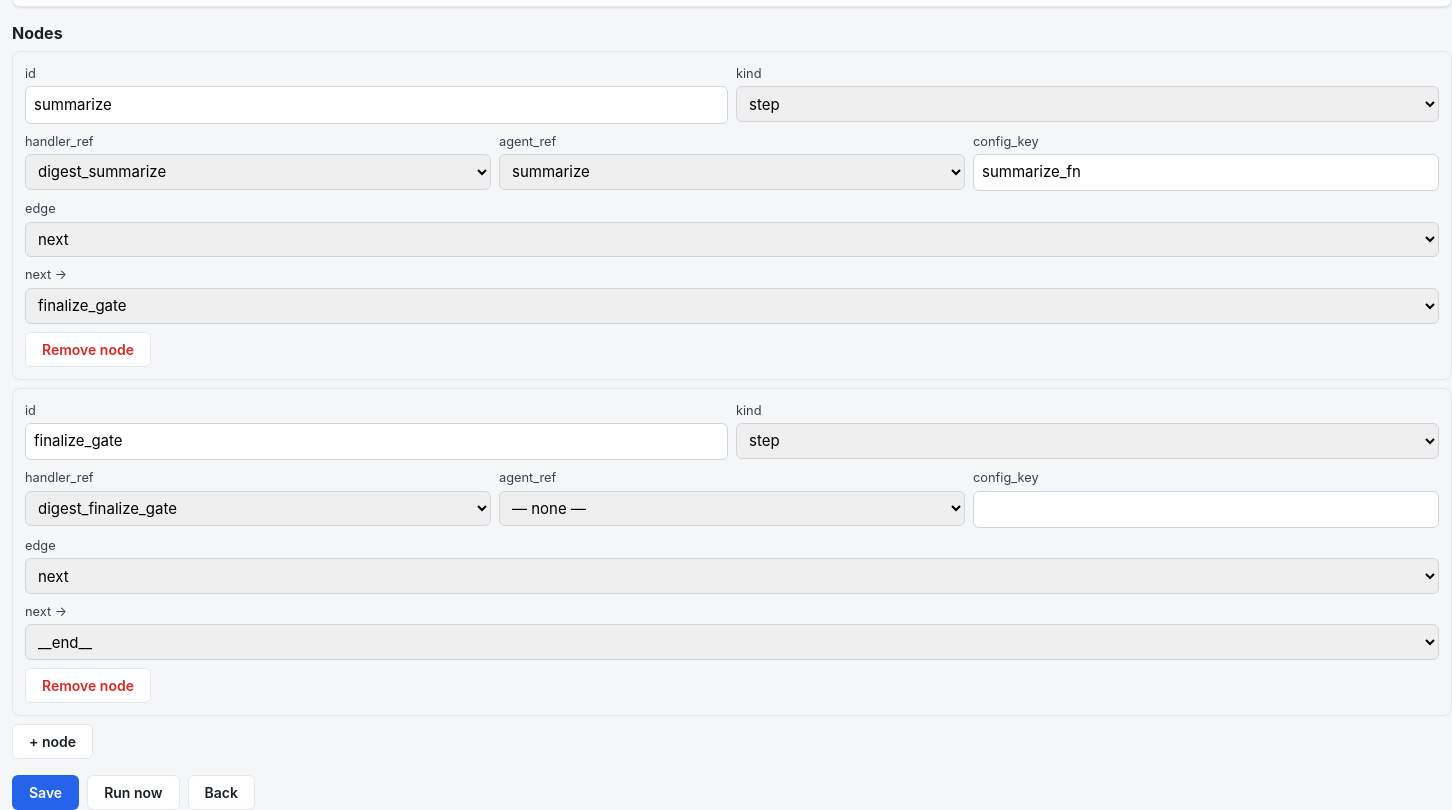
Test: WorkflowBuilder › surfaces a server validation error (400)
(page scrolled)
Click the button "Save". click: (46, 793)
box: [12,775,79,809]
(page scrolled)
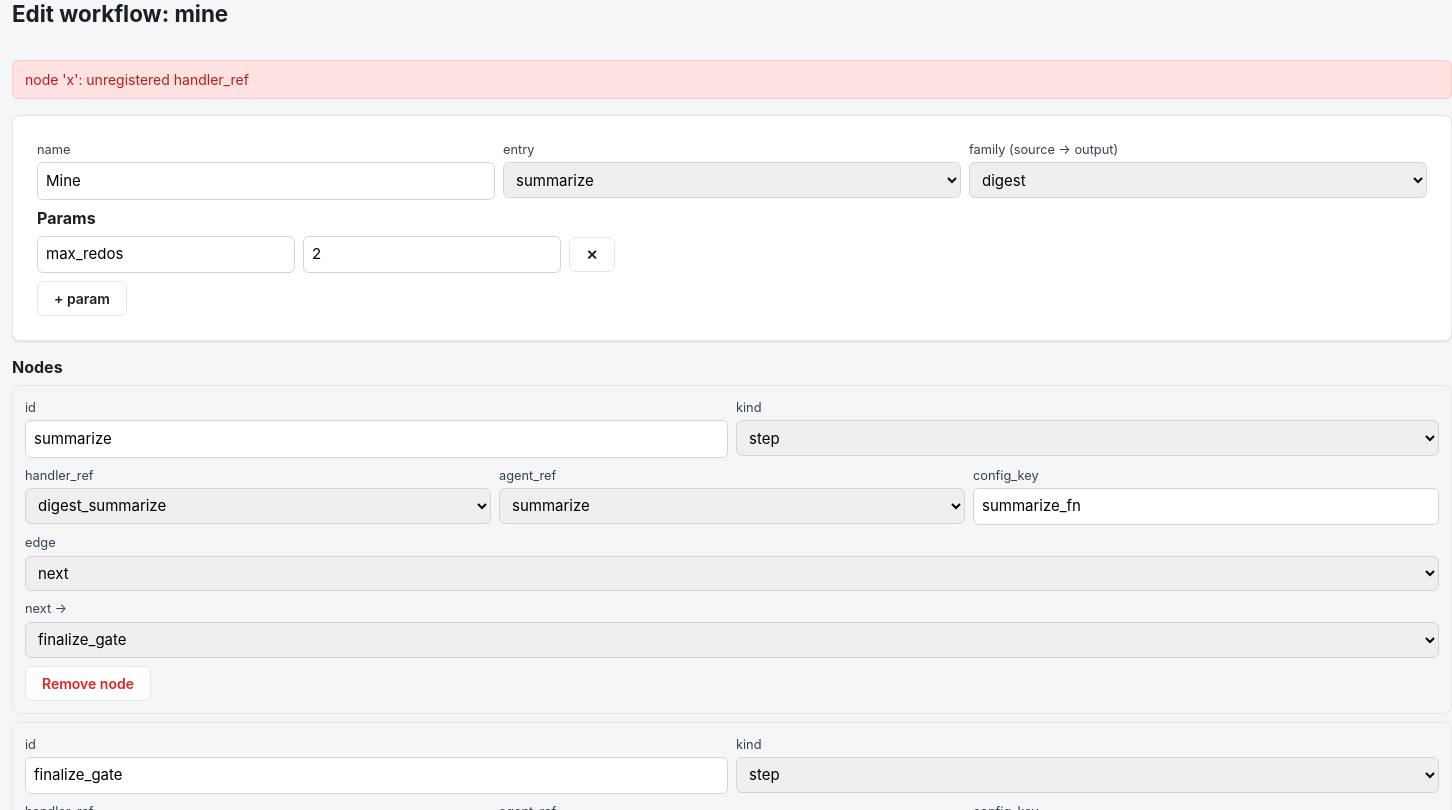
Now the text "node 'x': unregistered handler_ref" is shown, box [12,60,1451,99]
